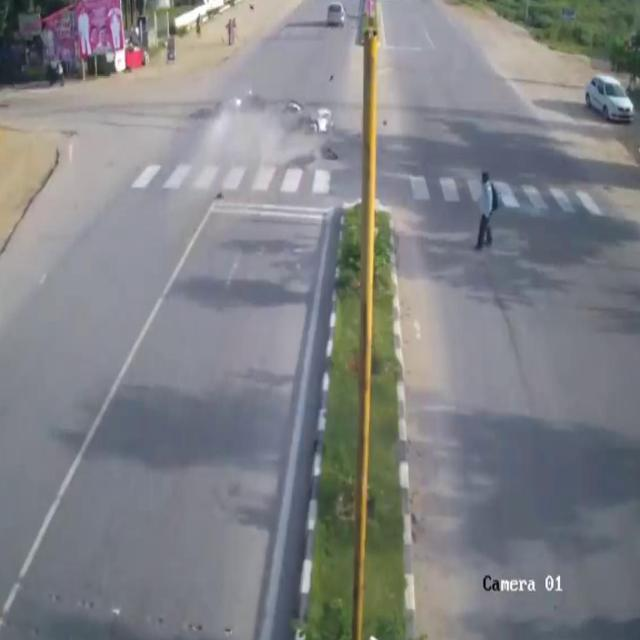accident: (216, 80, 348, 159)
